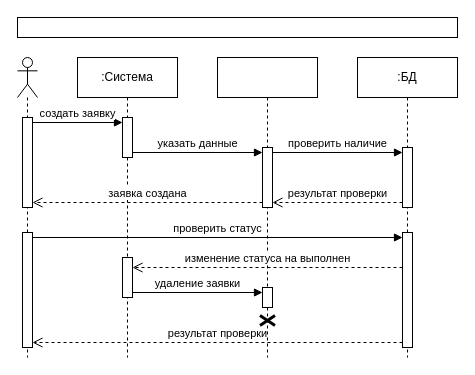
This 475x375 diagram has some shape labels left out. Each missing label, with the centre of its shape:
:Заявки: (x=267, y=207)
Выполнение заявки на получение спецодежды: (x=237, y=27)
